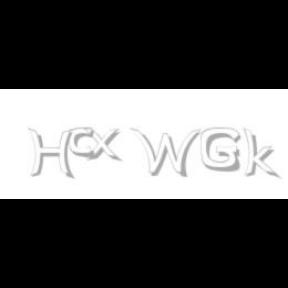G: (200, 128, 240, 172)
H: (28, 128, 74, 180)
W: (129, 128, 201, 178)
c: (68, 128, 97, 160)
k: (242, 128, 280, 180)
x: (83, 128, 125, 162)
